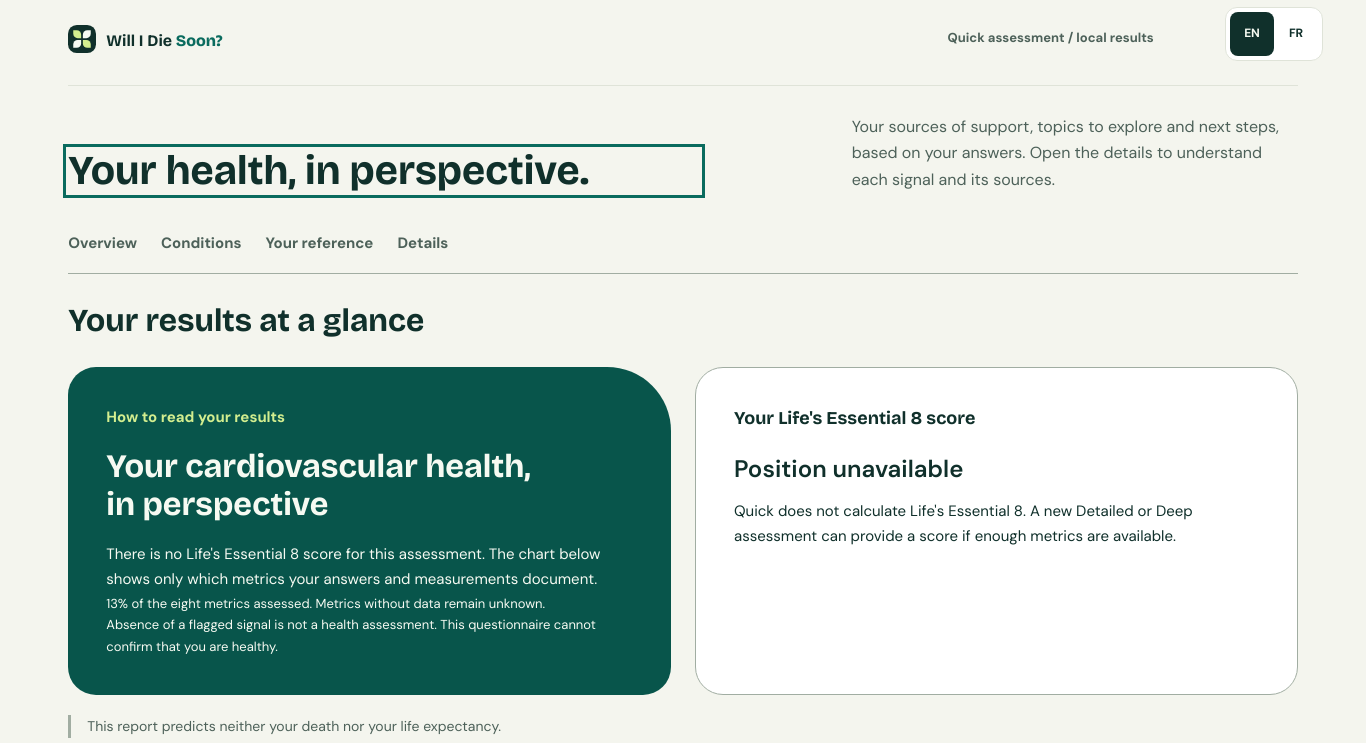
Test: a category settled despite one missing answer reads in the singular
Click the button with aria-label "Français": (1296, 34) [1274,12,1318,56]
(page scrolled)
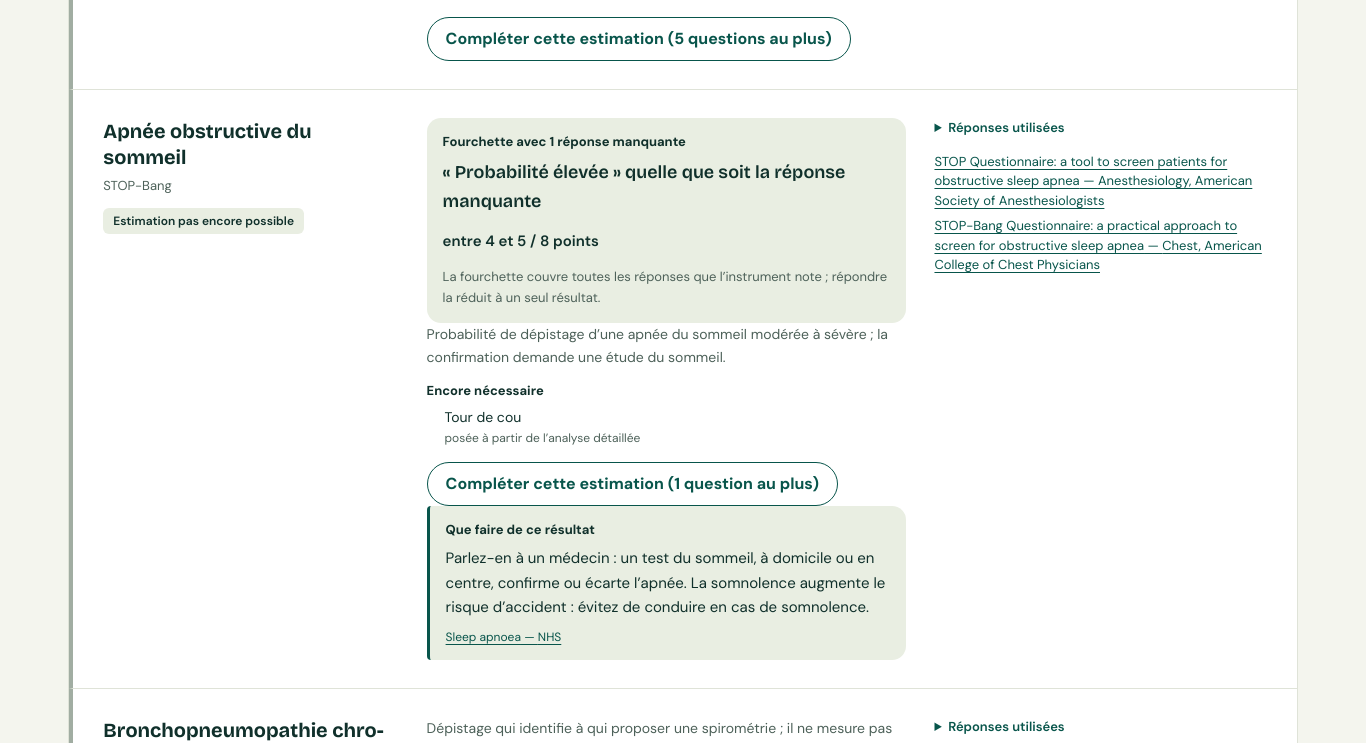
Expected: the list item named "Obstructive sleep apnoea" shows "« Probabilité élevée » quelle que soit la réponse manquante", [443,161,845,212]
